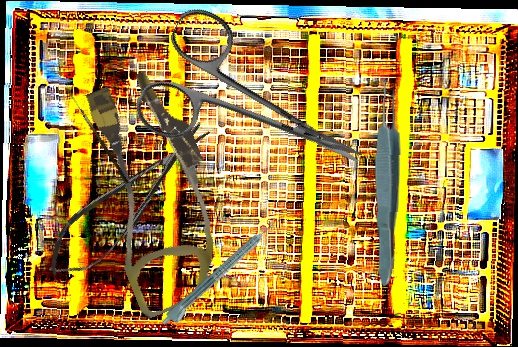Cannula: (58, 63, 251, 321)
Handpiece: (159, 219, 282, 332)
Hook Surgical: (62, 87, 131, 185)
Iris Scissors: (127, 0, 389, 223)
Micro Scissor: (32, 112, 227, 290)
Tissue Forceps: (372, 80, 403, 287)
